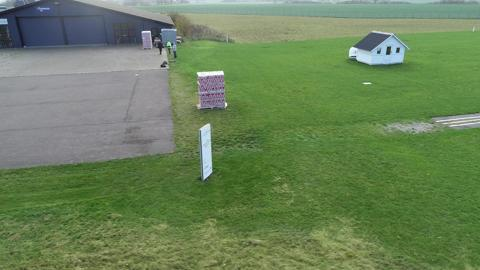RockwoolPallet: (141, 30, 153, 49)
